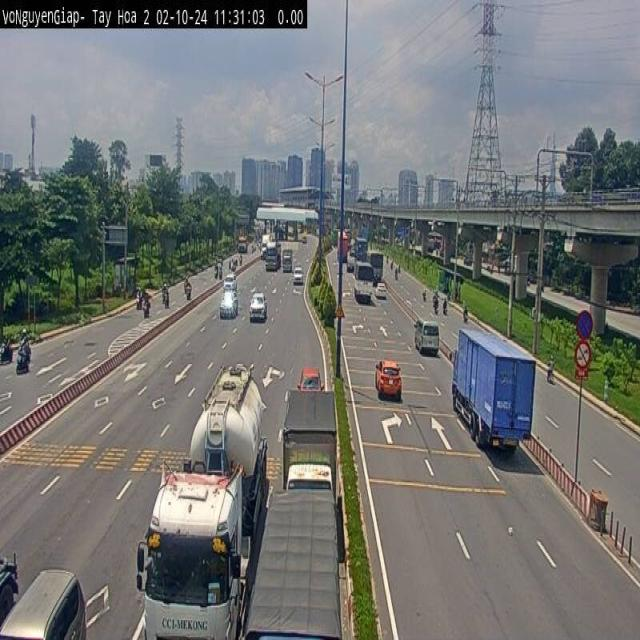car: (374, 358, 402, 399)
truck: (130, 360, 279, 640), (245, 484, 349, 640), (451, 324, 536, 452), (278, 384, 344, 510)
